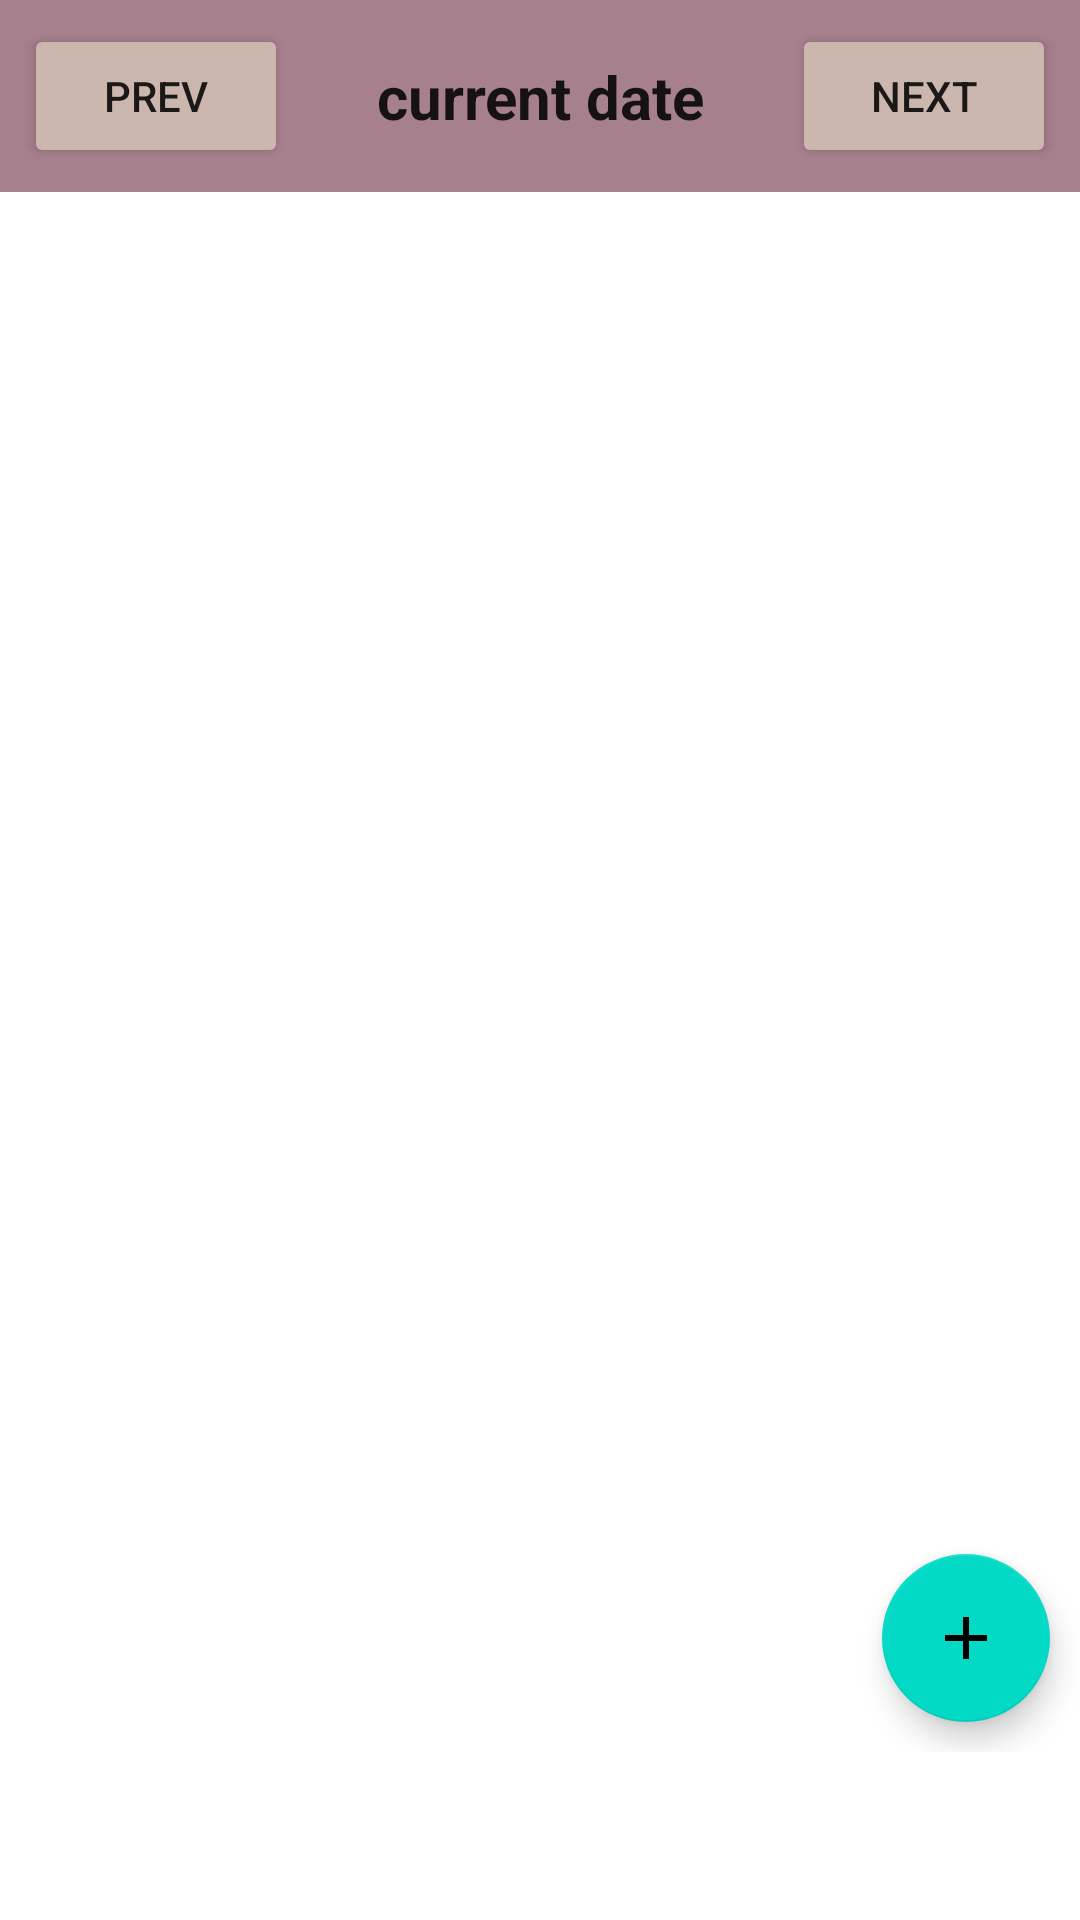

Named icons in this screenshot (1080w x 1920h) and their bounding boxes, (x1, y1, x2, y2):
add: (882, 1554, 1050, 1722)
